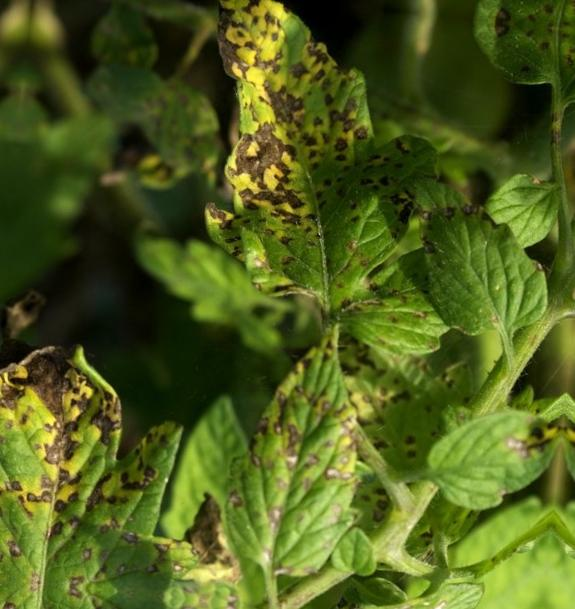Tomato Septoria leaf spot: (170, 0, 438, 305), (0, 354, 248, 601), (215, 310, 374, 589)
